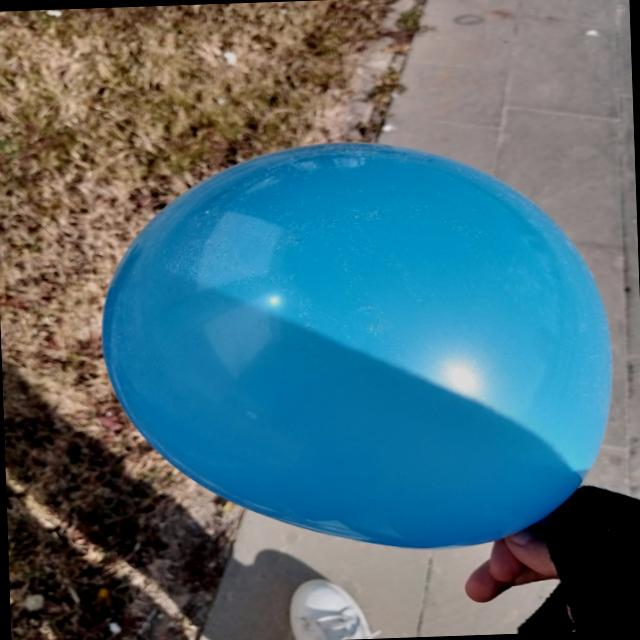balloon: (103, 143, 612, 548)
